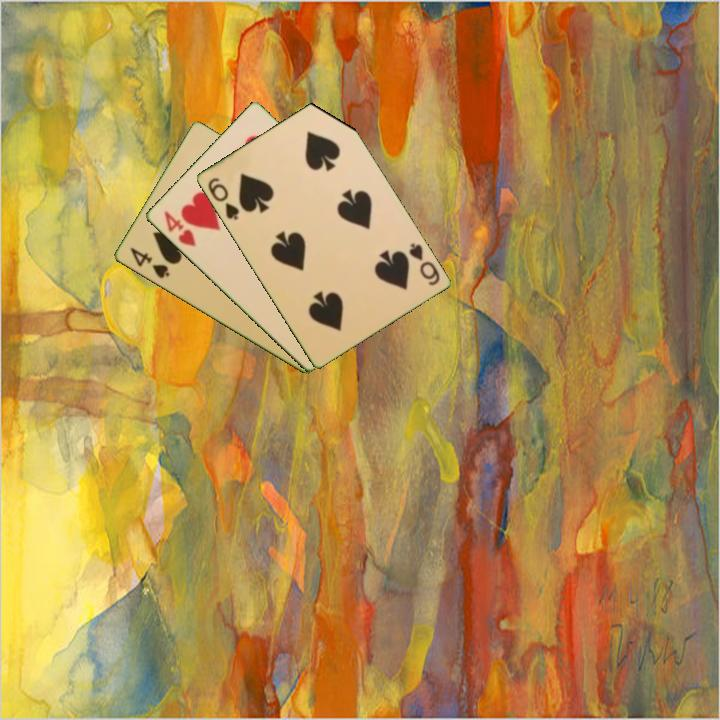4h: (160, 207, 199, 249)
4s: (126, 244, 172, 281)
6s: (204, 174, 242, 223), (405, 239, 442, 289)
